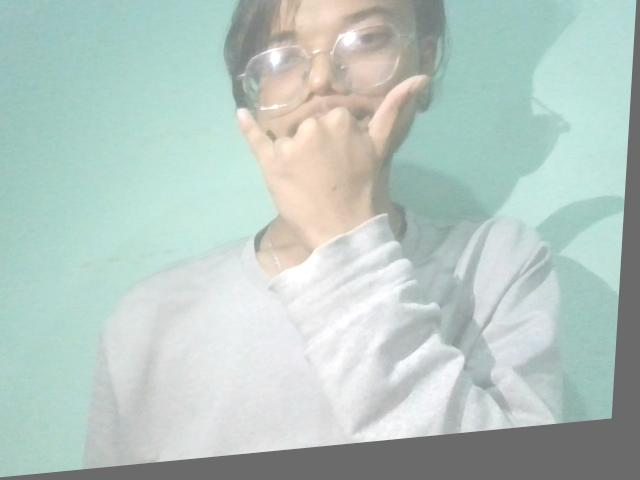Wrong: (207, 70, 457, 278)
